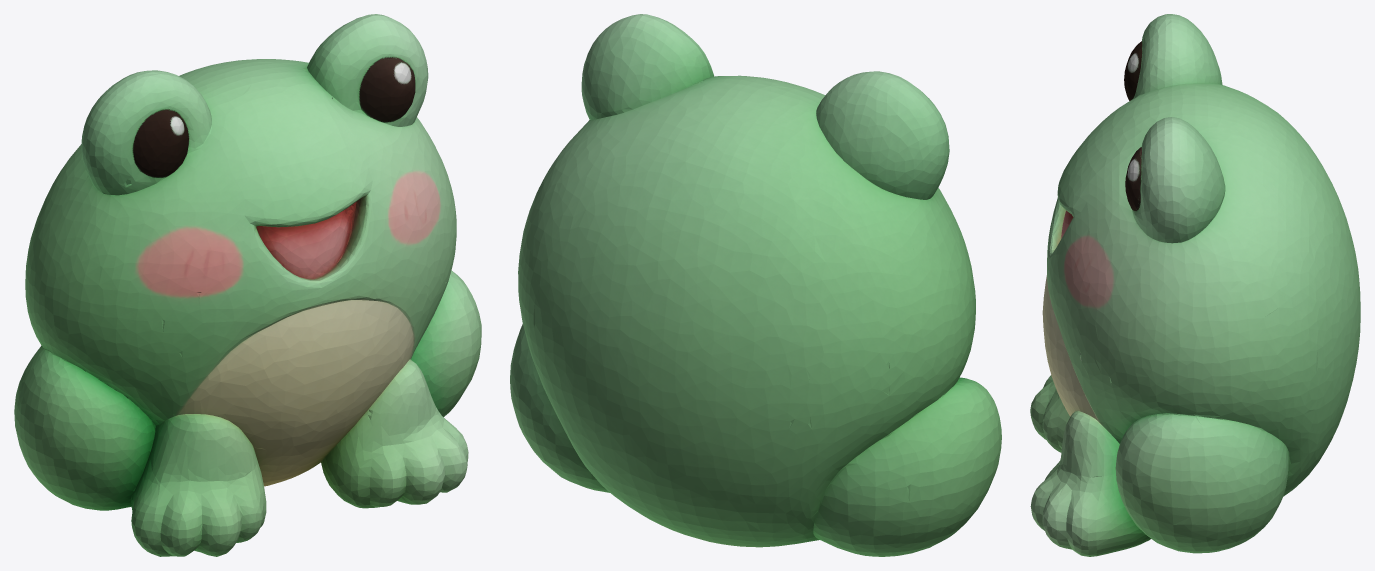
The model's file is frog.glb.
3 views of the same model, side by side, from view 1: azimuth 30°, elevation 25°; view 2: azimuth 150°, elevation 25°; view 3: azimuth 270°, elevation 25° (orthographic). The views are drawn at different scales.
Parts seen in each view (by area): view 1: geometry_0; view 2: geometry_0; view 3: geometry_0.
Boxes of the visible parts, x1,y1,x2,y2 form: geometry_0: [14, 14, 481, 556]; geometry_0: [510, 14, 1001, 556]; geometry_0: [1030, 14, 1360, 556].
Size of the model in its own units: 0.9991 by 0.9723 by 0.683.
1 material, 1 textured.
